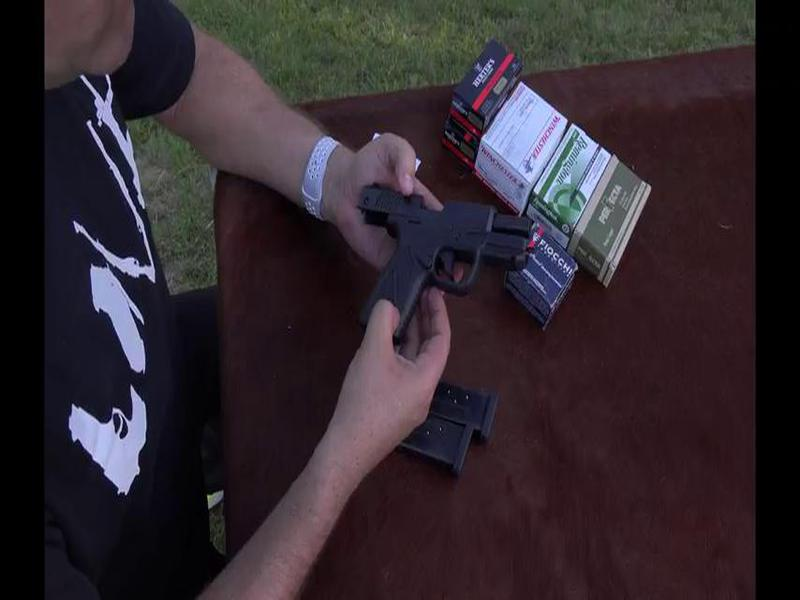Pistola: (352, 166, 543, 368)
